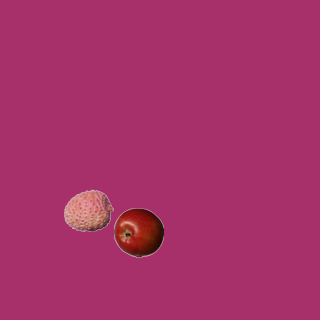Apple Braeburn: (113, 207, 163, 257)
Lychee: (63, 185, 113, 235)
